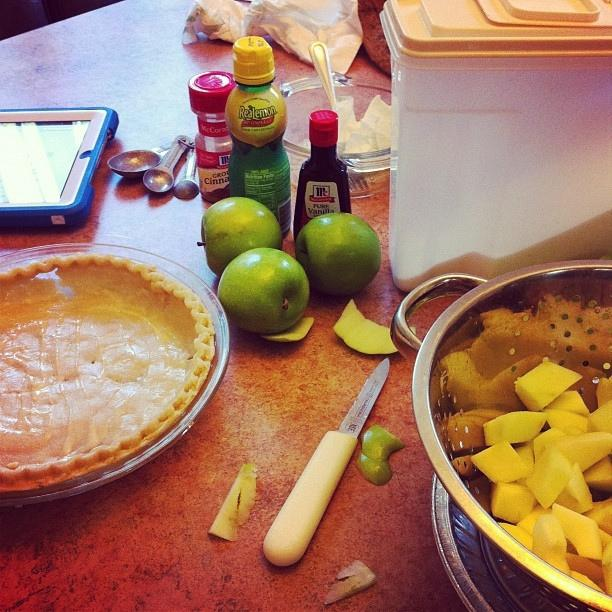apple: (217, 248, 309, 334), (296, 212, 382, 297), (196, 197, 283, 278), (332, 298, 416, 354), (513, 360, 583, 411), (524, 446, 574, 510), (355, 424, 404, 486), (544, 431, 612, 474), (552, 503, 602, 560), (471, 440, 531, 484), (532, 513, 571, 576), (483, 411, 548, 446), (552, 462, 594, 514), (489, 481, 538, 524), (258, 317, 314, 343), (542, 390, 590, 418), (566, 554, 604, 586), (582, 456, 612, 493), (497, 522, 533, 552), (580, 503, 612, 536), (544, 410, 588, 432), (587, 399, 612, 435), (570, 570, 606, 594), (513, 446, 534, 476), (596, 375, 612, 408), (598, 528, 612, 553), (601, 542, 612, 566)
